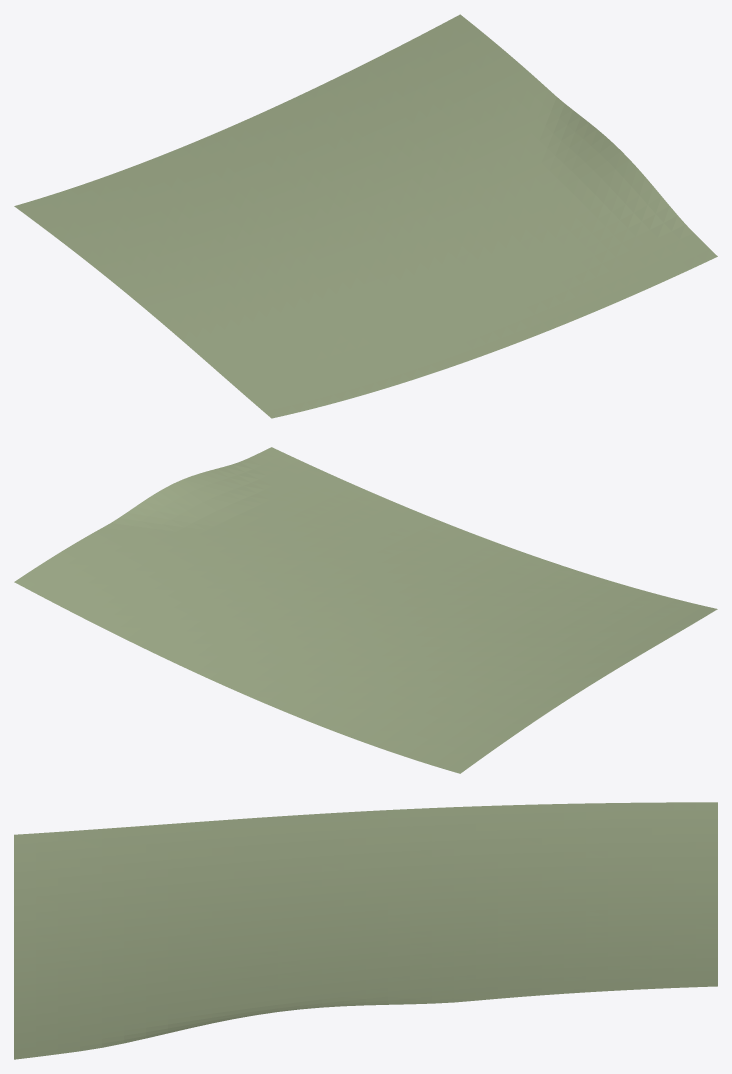
The model's file is desert-22-4.glb.
3 views of the same model, one above another, from view 1: azimuth 30°, elevation 25°; view 2: azimuth 150°, elevation 25°; view 3: azimuth 270°, elevation 25° (orthographic). The views are drawn at different scales.
Visible parts, largest first — view 1: desert-22-4; view 2: desert-22-4; view 3: desert-22-4.
Part boxes in pixels (box(x1,y1,x2,y2)): desert-22-4: box(14, 14, 717, 418); desert-22-4: box(14, 447, 717, 773); desert-22-4: box(14, 802, 717, 1059).
Bounding box in the file's own units: 512 × 117 × 512.
